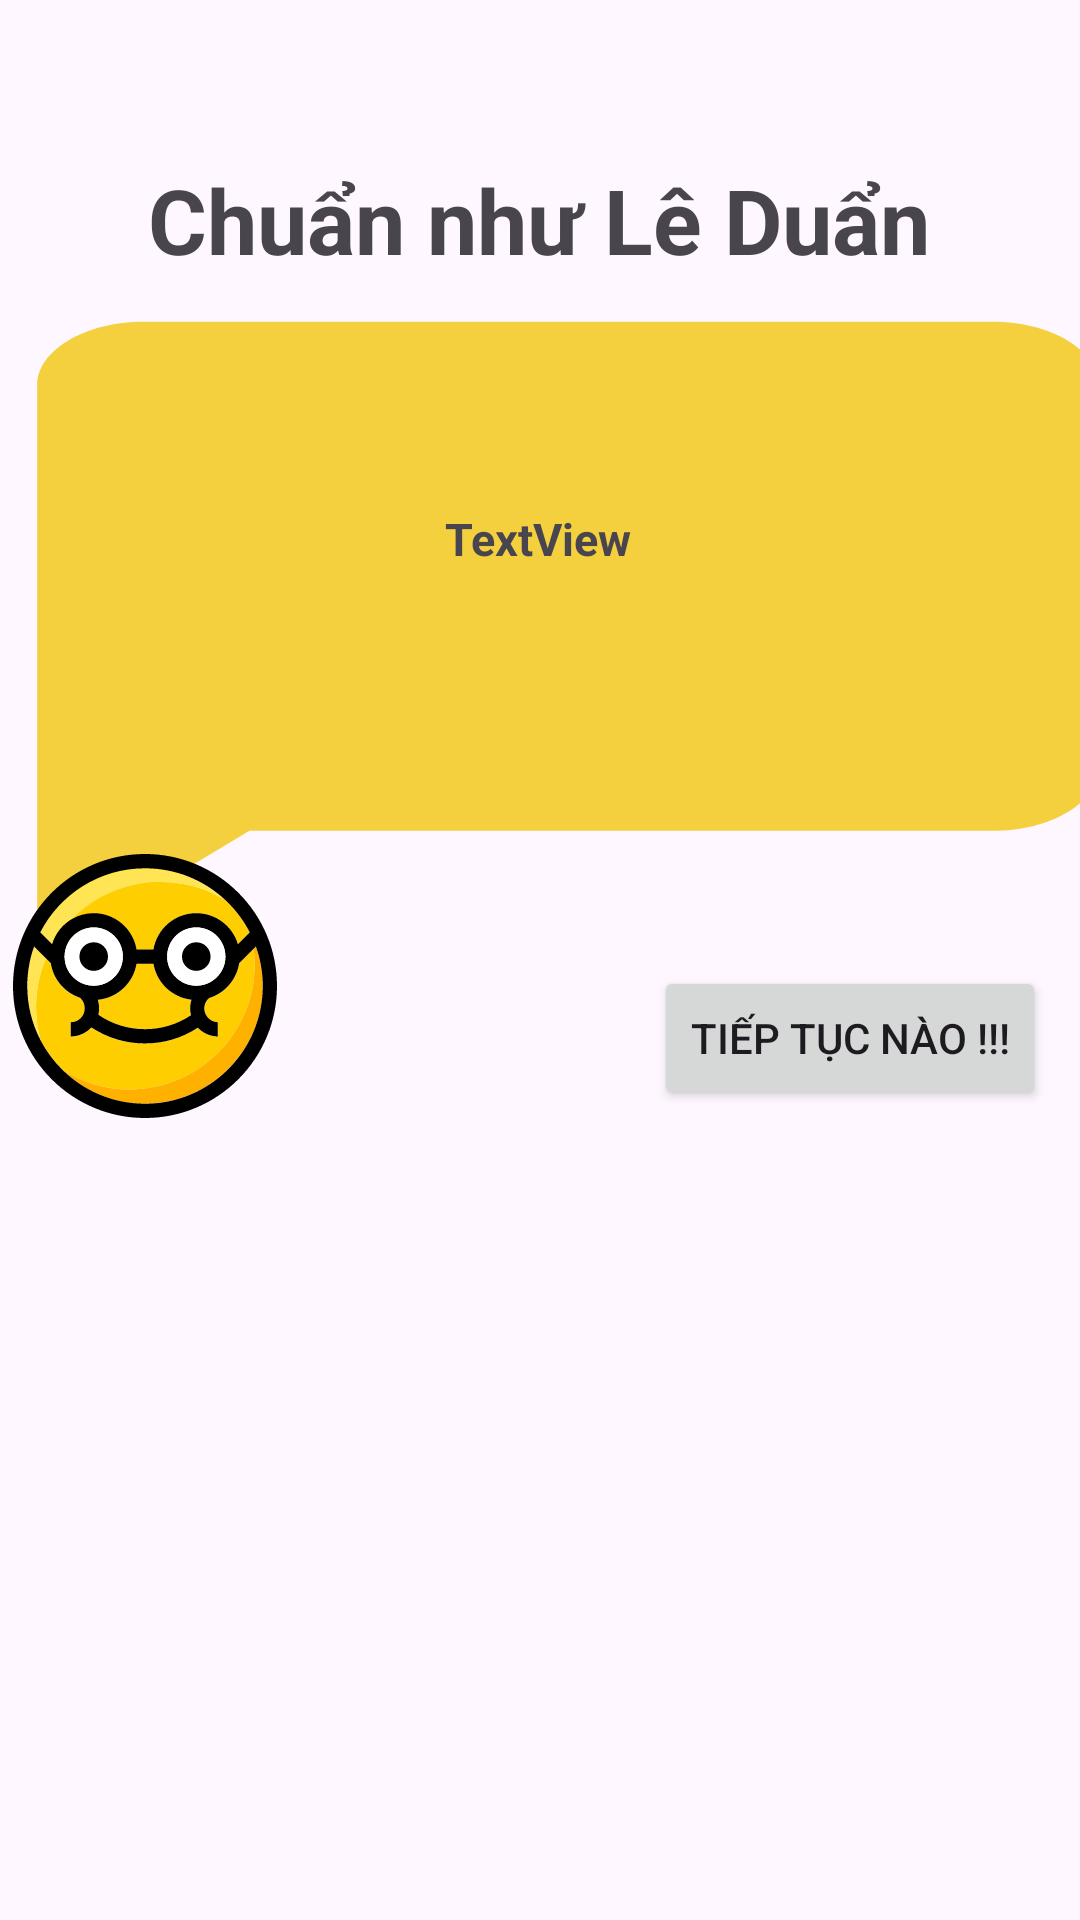

Where to tap for icons on this 1080px×1920px app screen, as point (x, y):
nerd: point (145, 986)
